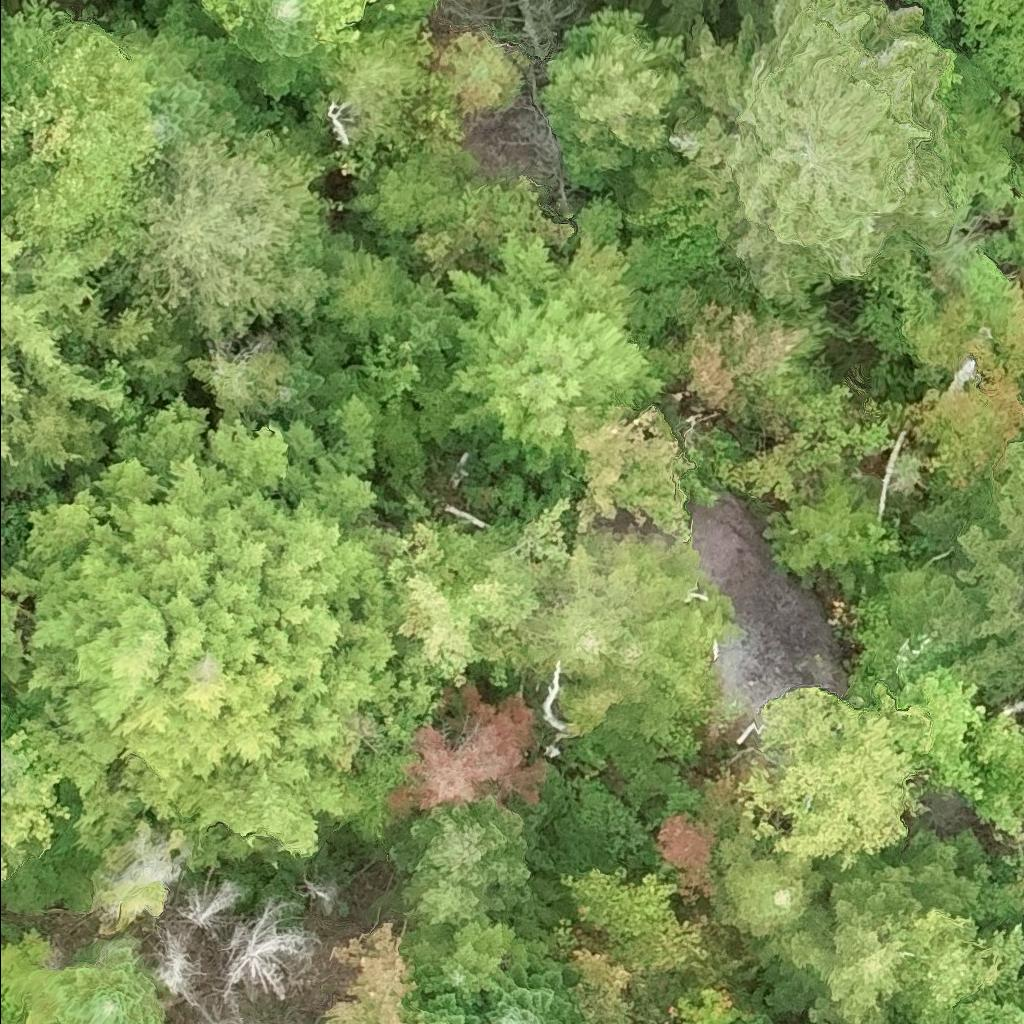crown: (0, 391, 443, 859), (682, 0, 961, 281), (443, 228, 669, 460), (127, 124, 342, 346), (753, 839, 982, 1023), (0, 0, 167, 250), (743, 682, 935, 870), (0, 214, 119, 466), (537, 4, 690, 189), (929, 439, 1023, 707), (386, 676, 547, 822), (828, 903, 1007, 1023), (547, 543, 693, 675), (149, 0, 281, 145), (572, 403, 695, 538), (916, 333, 1023, 487), (689, 300, 809, 424), (326, 20, 434, 151), (401, 918, 549, 1009), (712, 815, 823, 936), (17, 933, 166, 1023), (386, 795, 534, 885), (892, 662, 987, 799), (344, 144, 479, 234), (221, 0, 335, 105), (322, 917, 430, 1023), (763, 480, 875, 580), (218, 897, 322, 1003), (609, 912, 749, 987), (566, 931, 676, 1023), (19, 369, 114, 471), (559, 864, 679, 944), (389, 518, 483, 613), (187, 343, 289, 430), (432, 28, 534, 114), (608, 605, 691, 709), (0, 765, 72, 882), (398, 601, 491, 685), (119, 315, 200, 409), (951, 919, 1023, 1023), (480, 951, 582, 1023), (457, 548, 540, 635), (965, 714, 1023, 831), (399, 865, 504, 928), (886, 567, 966, 647), (393, 272, 466, 355), (263, 333, 326, 425), (668, 605, 722, 711), (722, 441, 803, 509), (658, 813, 717, 905), (508, 494, 572, 578), (559, 672, 640, 735), (151, 925, 210, 1010), (353, 333, 420, 400), (176, 865, 242, 928), (94, 361, 151, 427), (304, 0, 378, 45), (401, 985, 483, 1023), (677, 985, 752, 1023), (651, 0, 721, 37), (996, 299, 1023, 380), (0, 591, 22, 681), (195, 0, 253, 27), (0, 974, 23, 1023), (1008, 196, 1023, 260), (986, 999, 1023, 1023), (0, 759, 18, 798), (732, 1012, 779, 1023), (628, 0, 653, 15), (0, 702, 7, 725), (603, 0, 619, 9), (3, 0, 21, 6), (799, 1021, 811, 1023)
